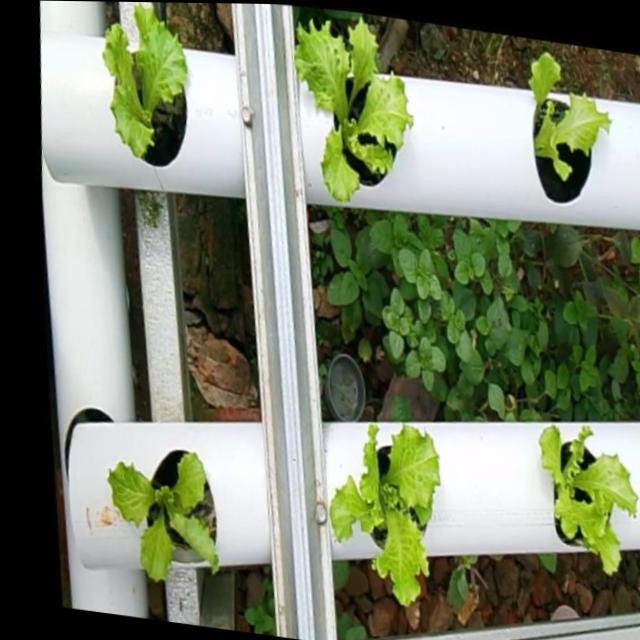Baby: (294, 6, 411, 199), (327, 419, 438, 601), (106, 443, 217, 575), (536, 423, 634, 572), (102, 2, 186, 162), (528, 53, 608, 203)
